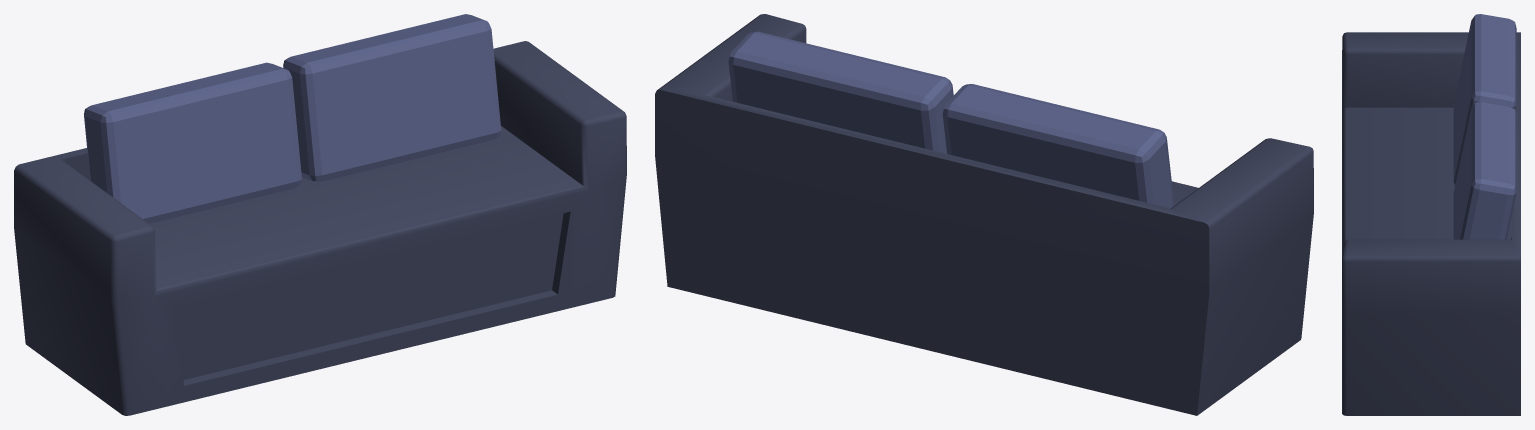
The model's file is Sofa.fbx.
3 renders of one model, left to right at view 1: azimuth 30°, elevation 25°; view 2: azimuth 150°, elevation 25°; view 3: azimuth 270°, elevation 25°, orthographic. The views are drawn at different scales.
Visible parts, largest first — view 1: Sofa; view 2: Sofa; view 3: Sofa.
Part boxes in pixels (x1,y1,x2,y2): Sofa: (14,14,626,415); Sofa: (655,14,1313,415); Sofa: (1342,14,1520,415).
Size of the model in its own units: 430 by 187 by 143.
